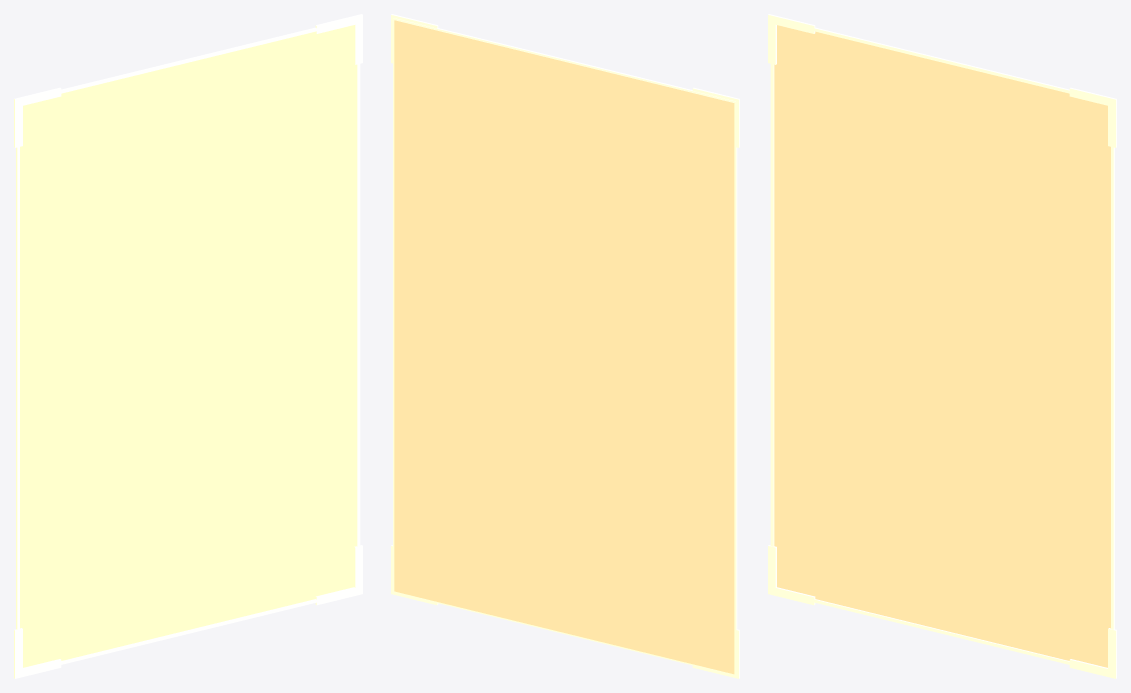
Rendered from slot_outline_14hp.glb.
3 renders of one model, left to right at view 1: azimuth 30°, elevation 25°; view 2: azimuth 150°, elevation 25°; view 3: azimuth 330°, elevation 25°, orthographic.
Visible parts, largest first — view 1: SlotOutline_Fill, SlotOutline_Edge, SlotOutline_Corner3, SlotOutline_Corner0, SlotOutline_Corner1, SlotOutline_Corner2; view 2: SlotOutline_Fill, SlotOutline_Edge; view 3: SlotOutline_Fill, SlotOutline_Edge, SlotOutline_Corner2, SlotOutline_Corner1, SlotOutline_Corner0, SlotOutline_Corner3.
Part boxes in pixels (bbox=[...]): SlotOutline_Fill: bbox=[20, 25, 356, 667]; SlotOutline_Edge: bbox=[16, 27, 360, 664]; SlotOutline_Corner3: bbox=[14, 87, 61, 147]; SlotOutline_Corner0: bbox=[14, 628, 61, 678]; SlotOutline_Corner1: bbox=[315, 545, 362, 605]; SlotOutline_Corner2: bbox=[315, 14, 362, 64]; SlotOutline_Fill: bbox=[394, 20, 734, 674]; SlotOutline_Edge: bbox=[393, 18, 737, 675]; SlotOutline_Fill: bbox=[774, 25, 1110, 667]; SlotOutline_Edge: bbox=[770, 27, 1114, 664]; SlotOutline_Corner2: bbox=[1069, 87, 1116, 147]; SlotOutline_Corner1: bbox=[1069, 628, 1116, 678]; SlotOutline_Corner0: bbox=[768, 545, 815, 605]; SlotOutline_Corner3: bbox=[768, 14, 815, 64].
Bounding box in the file's own units: 0.7232 × 1.15 × 0.006.
